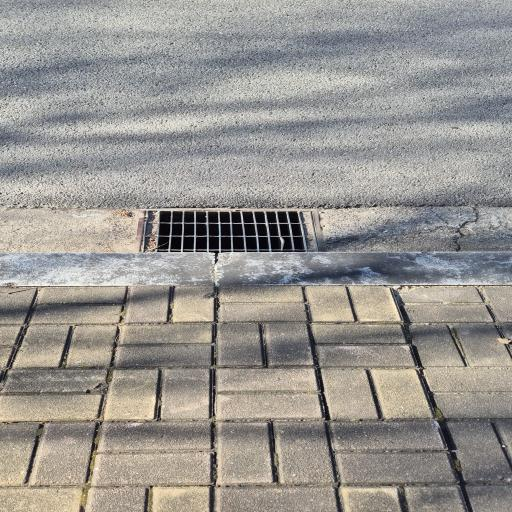drain: (146, 210, 309, 252)
